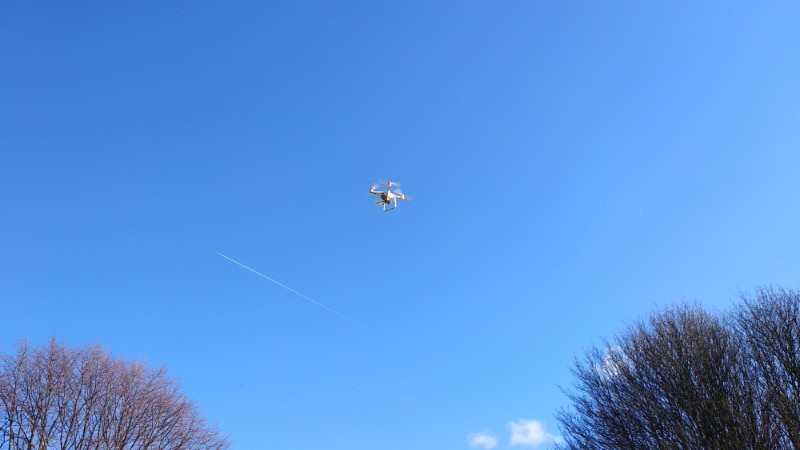drone: (369, 178, 413, 212)
